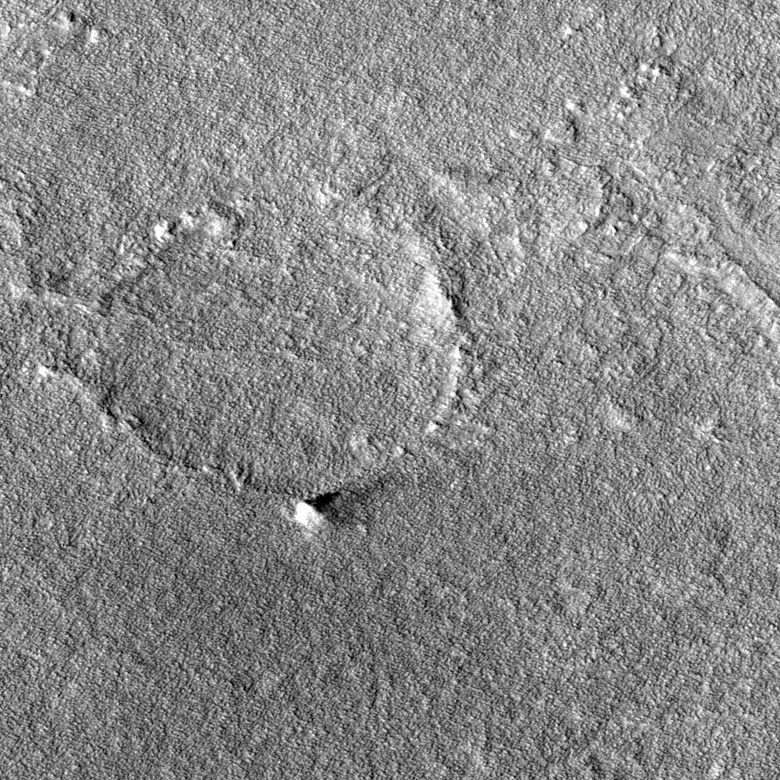dust_devil: (292, 472, 392, 533)
